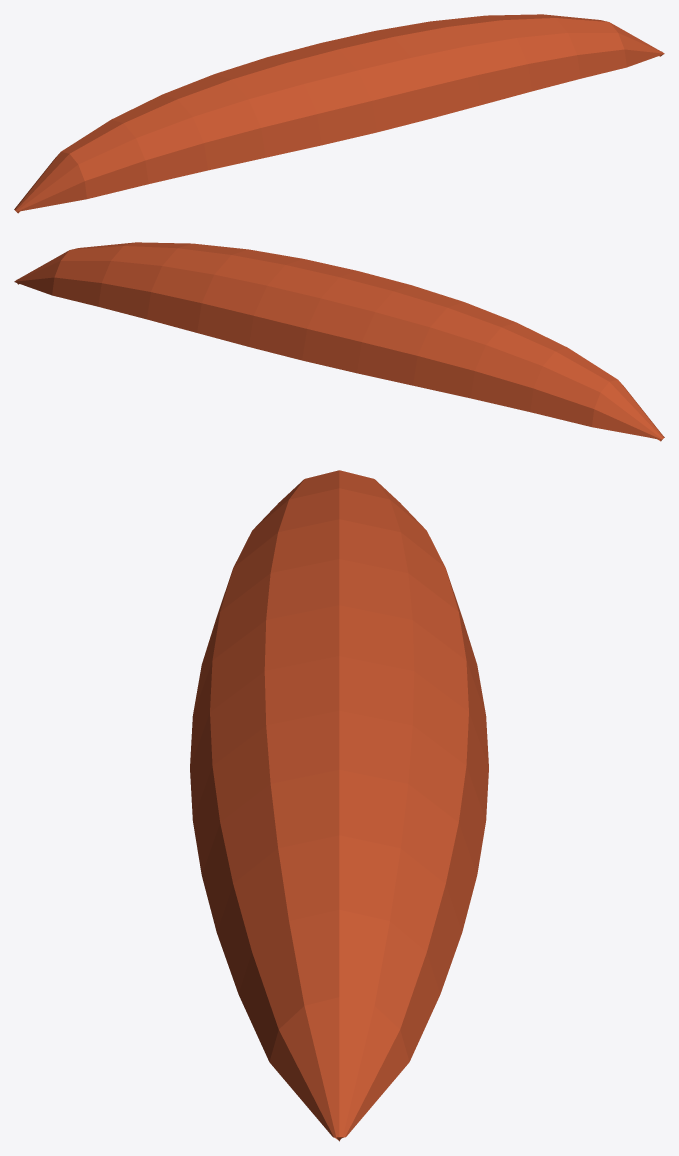
The model's file is canoe.glb.
The picture shows the model from 3 angles, top to bottom: view 1: azimuth 30°, elevation 25°; view 2: azimuth 150°, elevation 25°; view 3: azimuth 270°, elevation 25°; orthographic projection. The views are drawn at different scales.
Parts seen in each view (by area): view 1: canoe; view 2: canoe; view 3: canoe.
Part boxes in pixels (<box>): canoe: <box>14,14,664,213</box>; canoe: <box>14,242,664,441</box>; canoe: <box>190,470,488,1141</box>.
Size of the model in its own units: 4.6 by 0.5838 by 0.92.
